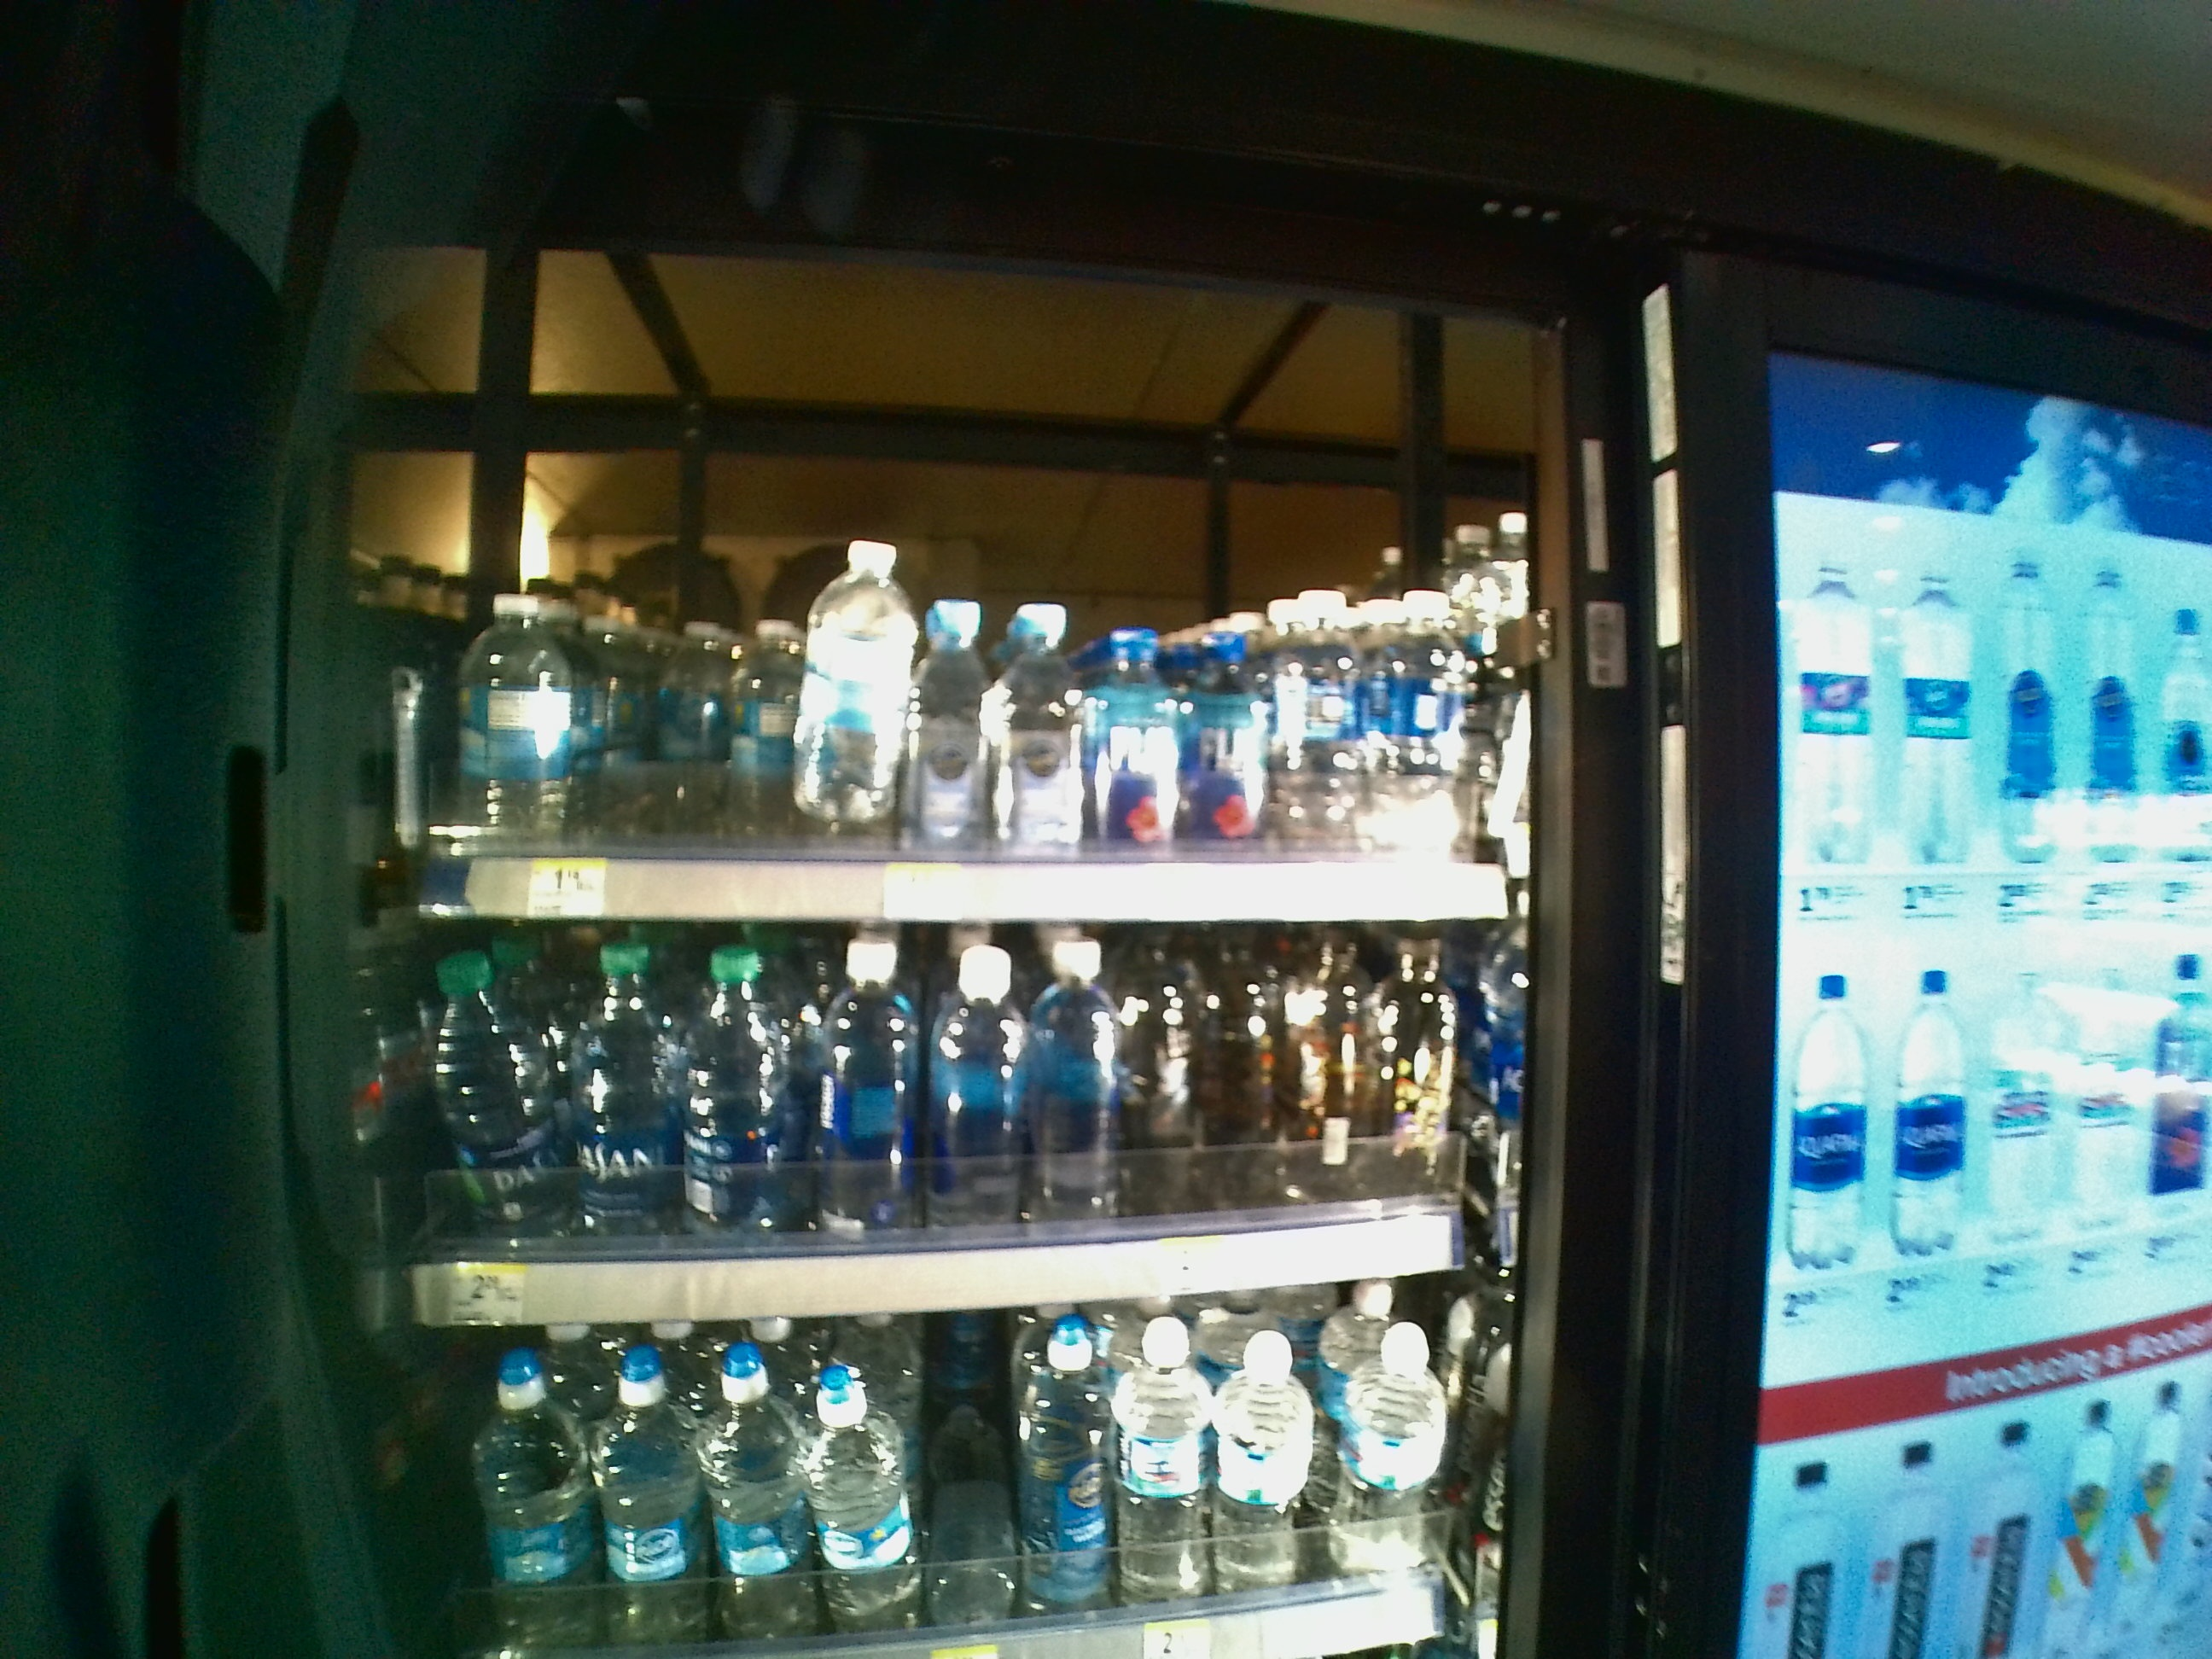shelf: (376, 397, 1543, 932), (376, 929, 1548, 1333)
